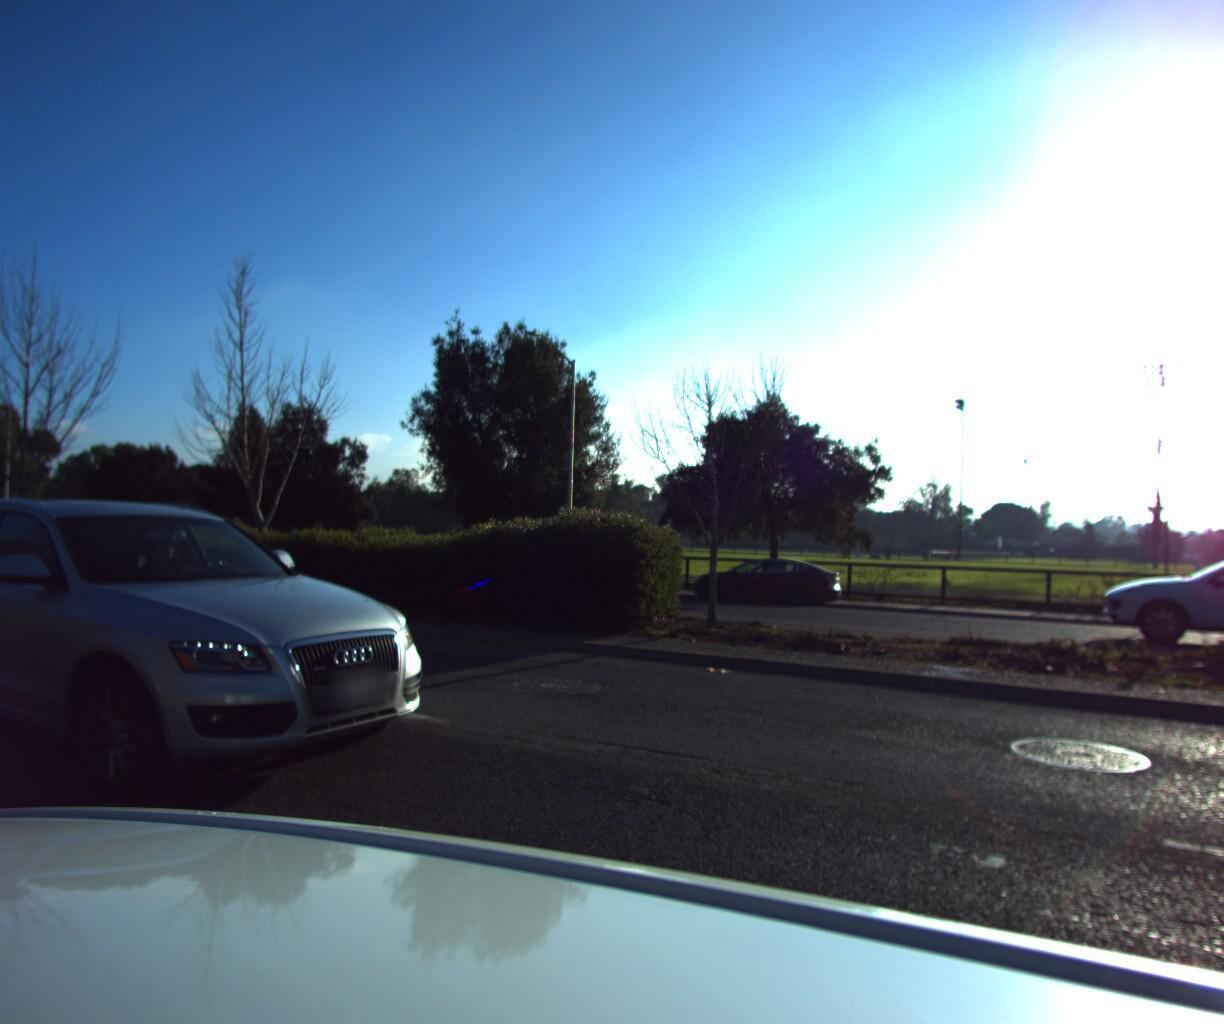car: (0, 485, 481, 847), (1107, 540, 1224, 663), (686, 547, 848, 605)
